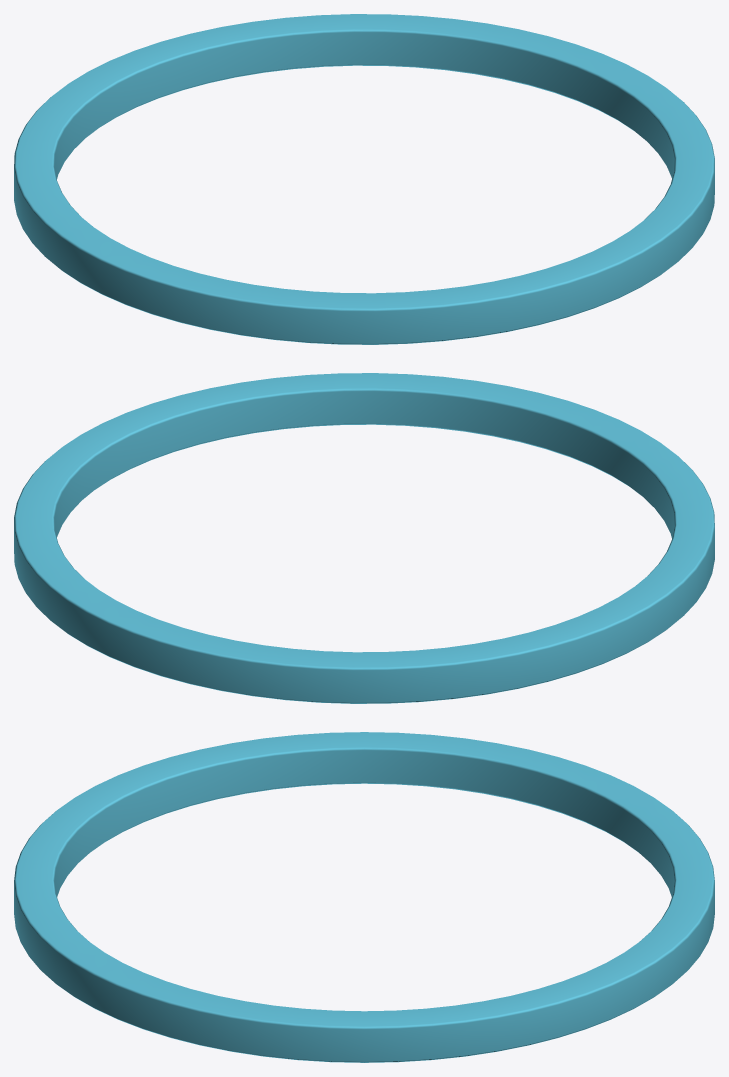
3 renders of one model, top to bottom at view 1: azimuth 30°, elevation 25°; view 2: azimuth 150°, elevation 25°; view 3: azimuth 270°, elevation 25°, orthographic.
Parts seen in each view (by area): view 1: seal_body; view 2: seal_body; view 3: seal_body.
Boxes of the visible parts, left/top/right/bottom form: seal_body: left=14, top=14, right=714, bottom=344; seal_body: left=14, top=373, right=714, bottom=703; seal_body: left=14, top=732, right=714, bottom=1062.
Bounding box in the file's own units: 0.0825 × 0.00476 × 0.0825.
